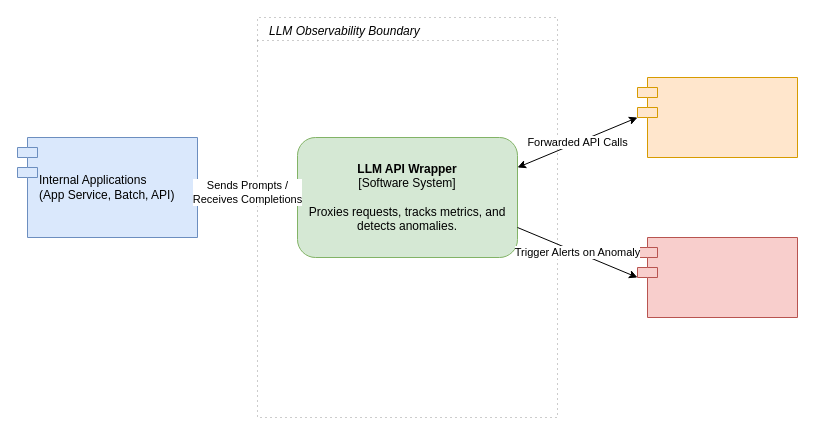
This 815x435 diagram has some shape labels left out. Here are the shapes that lost their labels. From the top down, the centre of each, then its label:
point (717, 117): LLM Providers (OpenAI / Gemini)
point (717, 277): Notification System (Slack / PagerDuty)
